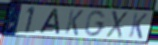1: (24, 6, 37, 35)
A: (38, 8, 61, 36)
G: (84, 10, 107, 38)
K: (63, 8, 85, 37), (127, 12, 149, 40)
X: (105, 10, 129, 40)
